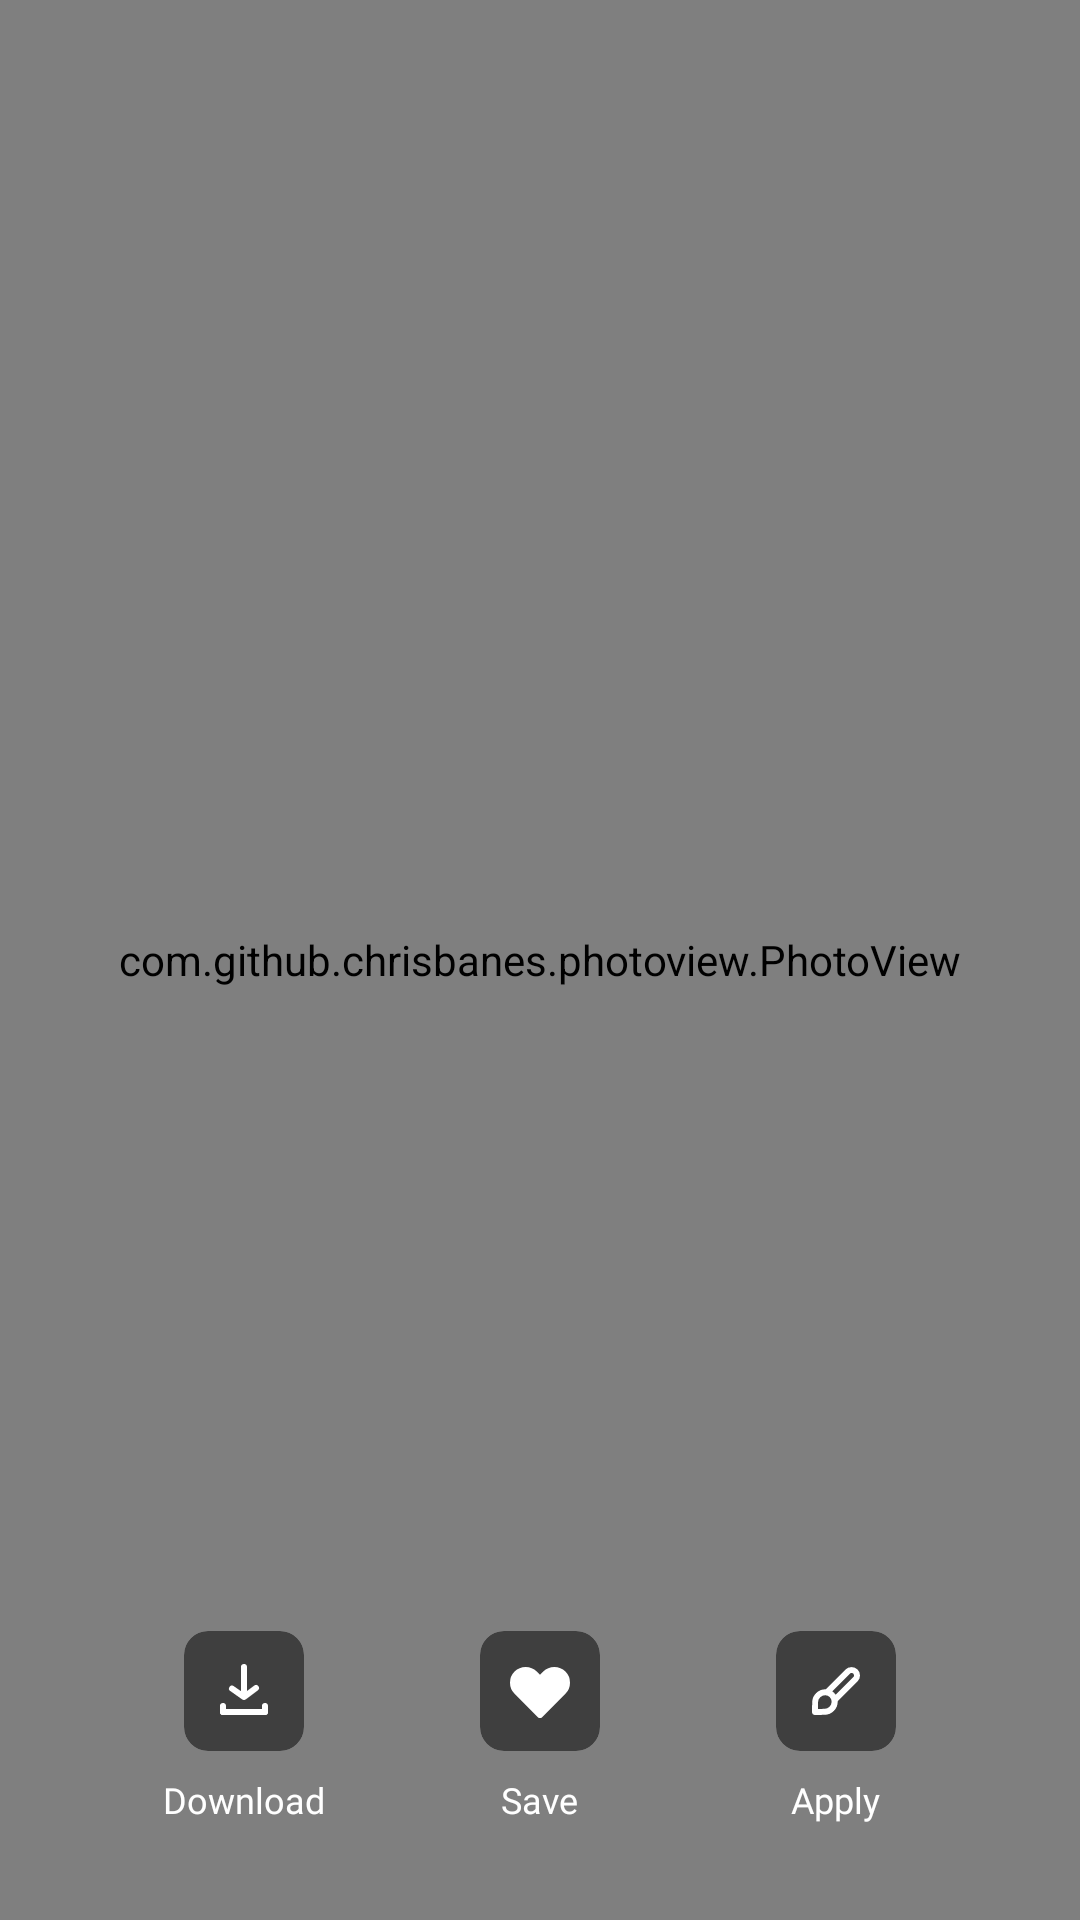

Icon click points for this 1080*1920 phone screenshot, format point (x, y):
brush: point (836, 1691)
heart: point (540, 1692)
